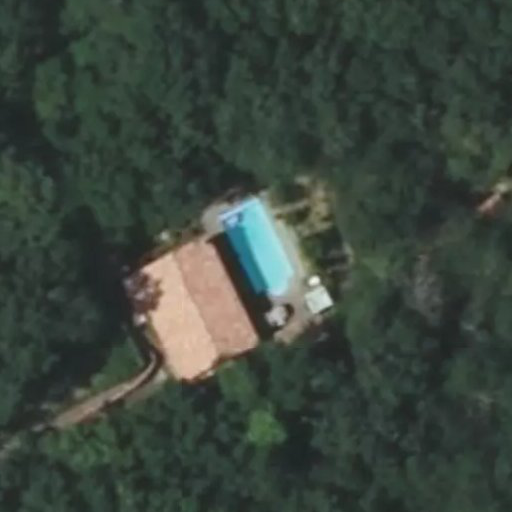pool: (215, 209, 297, 274)
